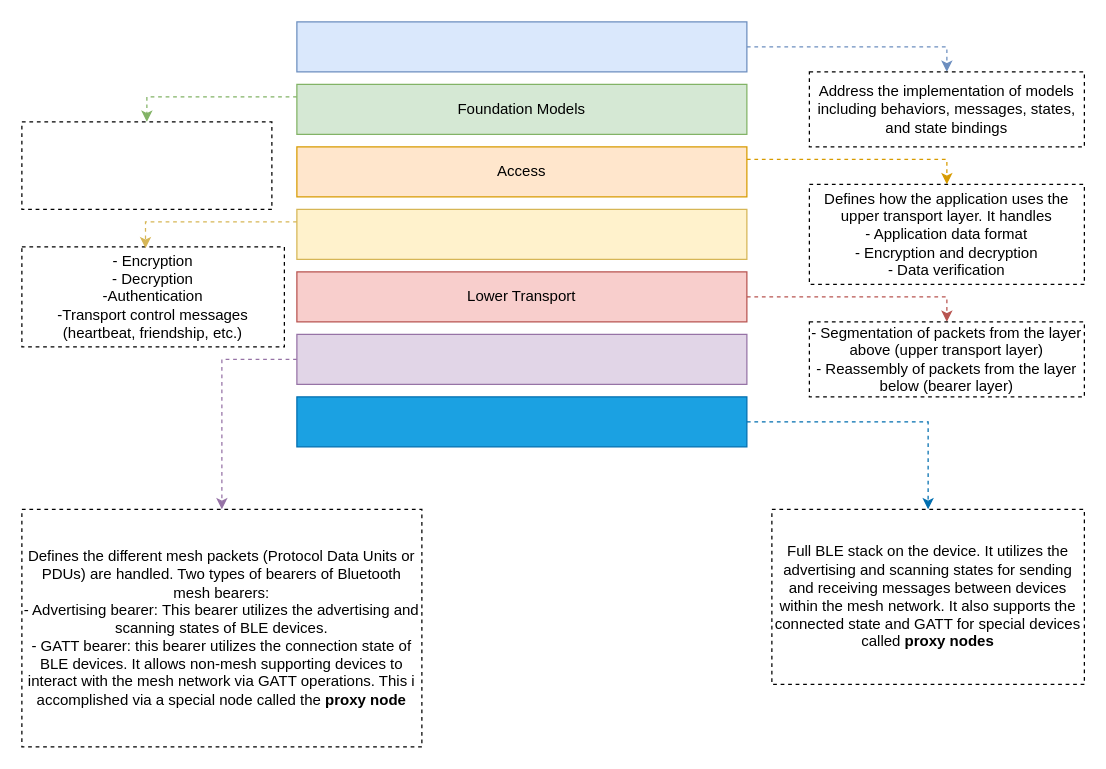
Image size: 1106x769. Some labels were removed from this diagram. The centre of each missing label's shape, as x and y in pixels:
Bearer: point 521,358
Bluetooth Low Energy: point 521,421
Models: point 521,46
Network configuration and network management models: point 146,165
Upper Transport: point 521,233
